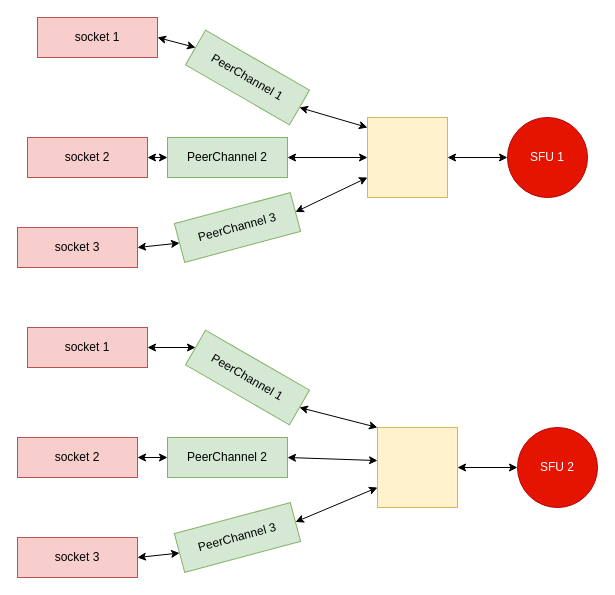
Some shapes in this 615 by 595 pixel diagram are drawn without their labels. Each missing label, with the centre of its shape:
"ROOM 1" belongs at (x=407, y=157).
"ROOM 2" belongs at (x=417, y=467).
